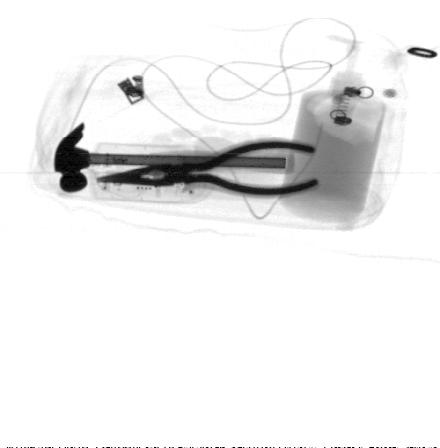Hammer: (53, 121, 296, 194)
Pliers: (96, 137, 321, 199)
